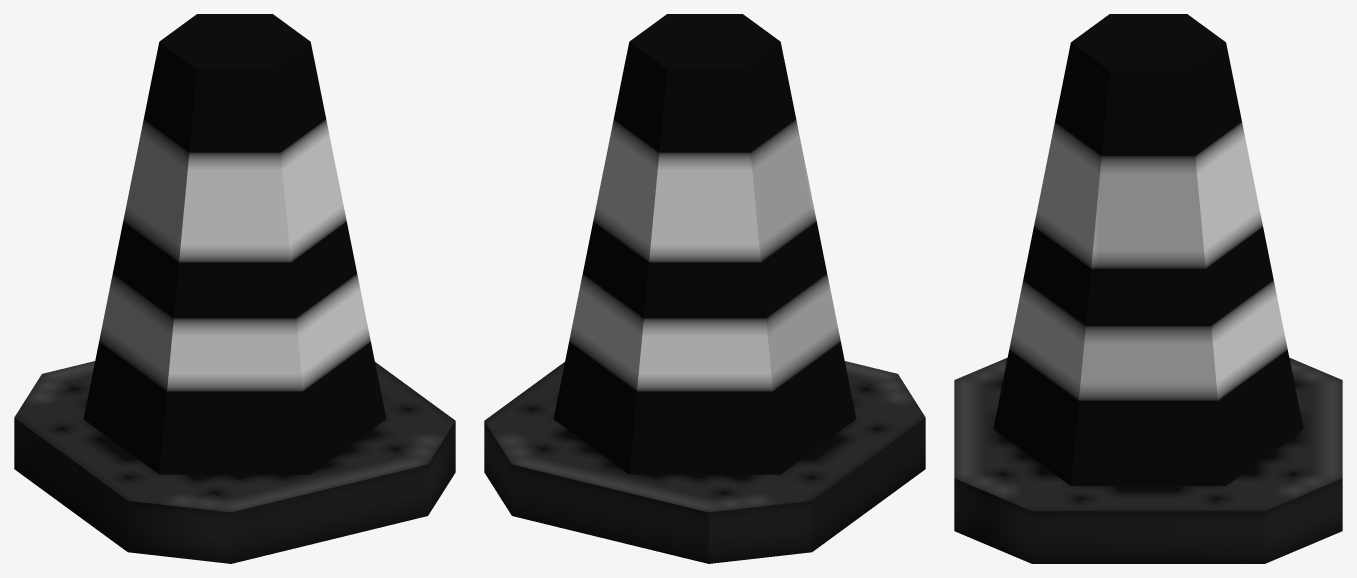
The model's file is TrafficCone.fbx.
3 views of the same model, side by side, from view 1: azimuth 30°, elevation 25°; view 2: azimuth 150°, elevation 25°; view 3: azimuth 270°, elevation 25° (orthographic). The views are drawn at different scales.
Parts seen in each view (by area): view 1: TrafficCone; view 2: TrafficCone; view 3: TrafficCone.
Boxes of the visible parts, x1,y1,x2,y2 form: TrafficCone: (14, 14, 455, 563); TrafficCone: (484, 14, 925, 563); TrafficCone: (954, 14, 1342, 563).
Size of the model in its own units: 5 by 6.25 by 5.
